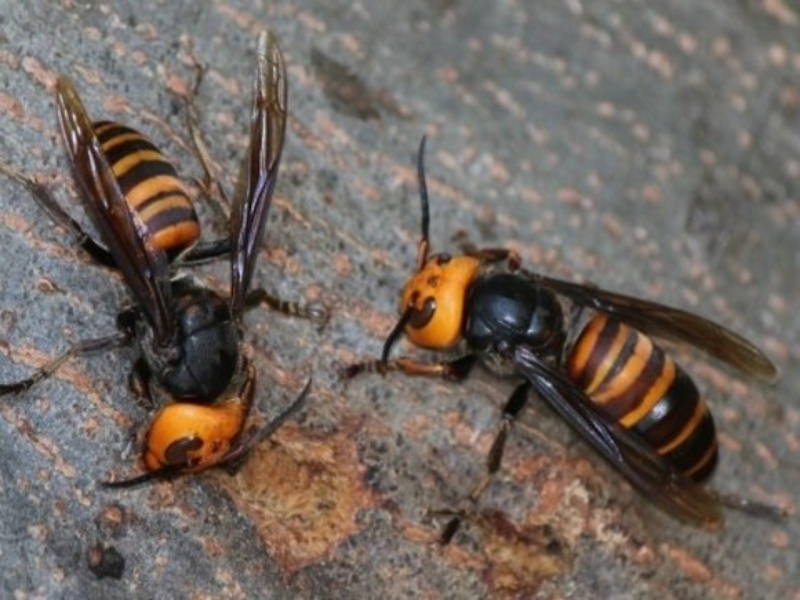asian_giant_hornet: (47, 78, 303, 495), (381, 240, 720, 490)
